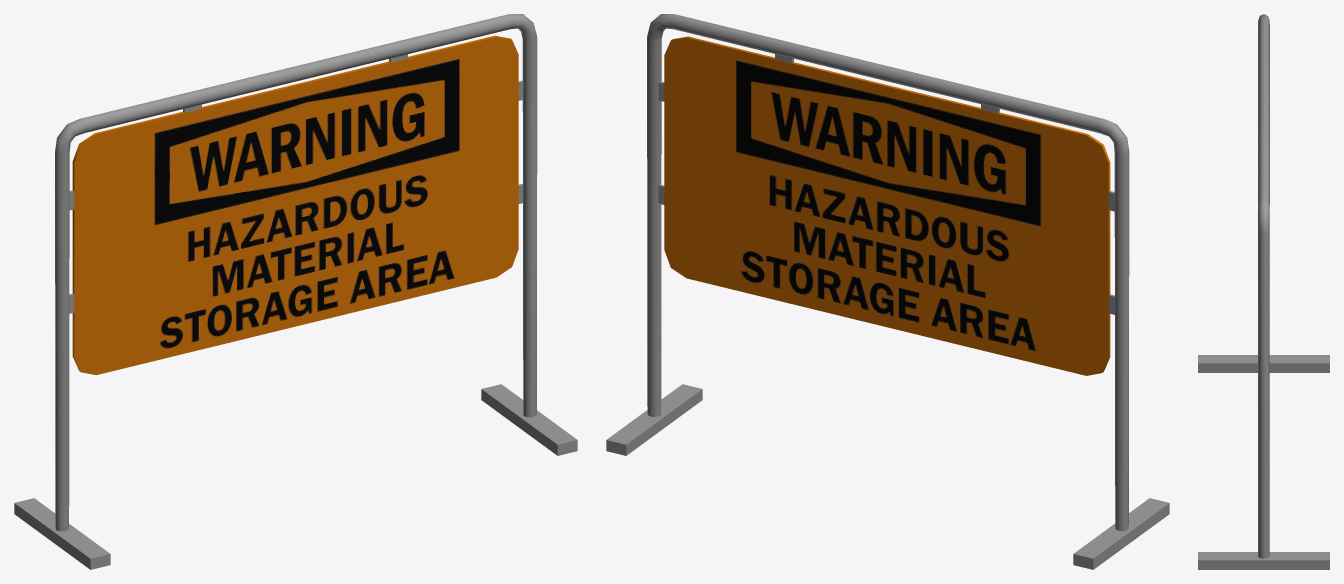
Rendered from Hazardous.fbx.
3 renders of one model, left to right at view 1: azimuth 30°, elevation 25°; view 2: azimuth 150°, elevation 25°; view 3: azimuth 270°, elevation 25°, orthographic. The views are drawn at different scales.
Visible parts, largest first — view 1: Hazardous; view 2: Hazardous; view 3: Hazardous.
Part boxes in pixels (bbox=[...]): Hazardous: bbox=[14, 14, 577, 569]; Hazardous: bbox=[606, 14, 1169, 569]; Hazardous: bbox=[1198, 14, 1329, 569].
Bounding box in the file's own units: 0.1022 × 0.0835 × 0.0277.
2 materials, 2 textured.
